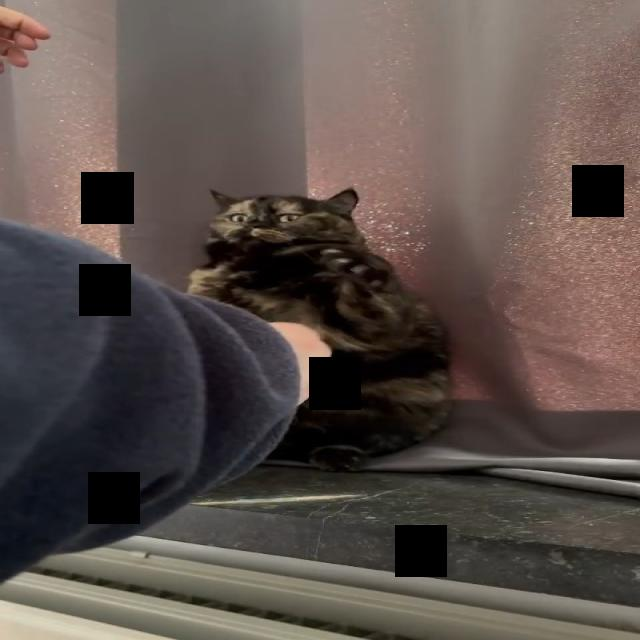authorized: (185, 187, 454, 472)
